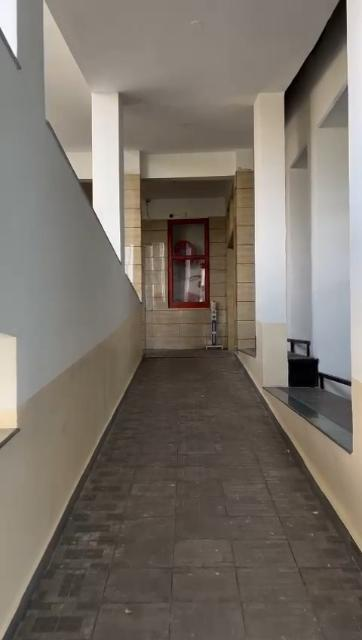floor: (19, 346, 361, 638)
wall: (1, 0, 146, 640), (316, 58, 362, 354), (253, 98, 305, 330), (146, 222, 164, 344), (167, 312, 209, 348), (211, 215, 227, 297)
